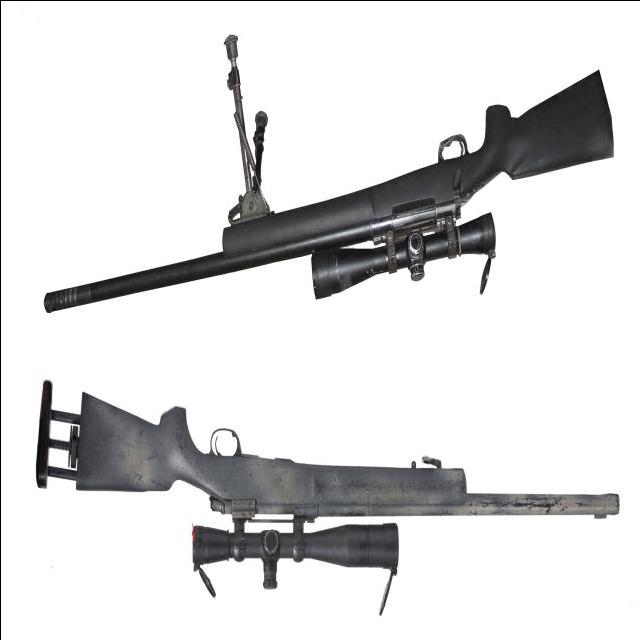scope: (312, 215, 506, 316), (185, 516, 408, 601)
sniper rifle: (41, 30, 614, 330), (17, 357, 620, 616)
